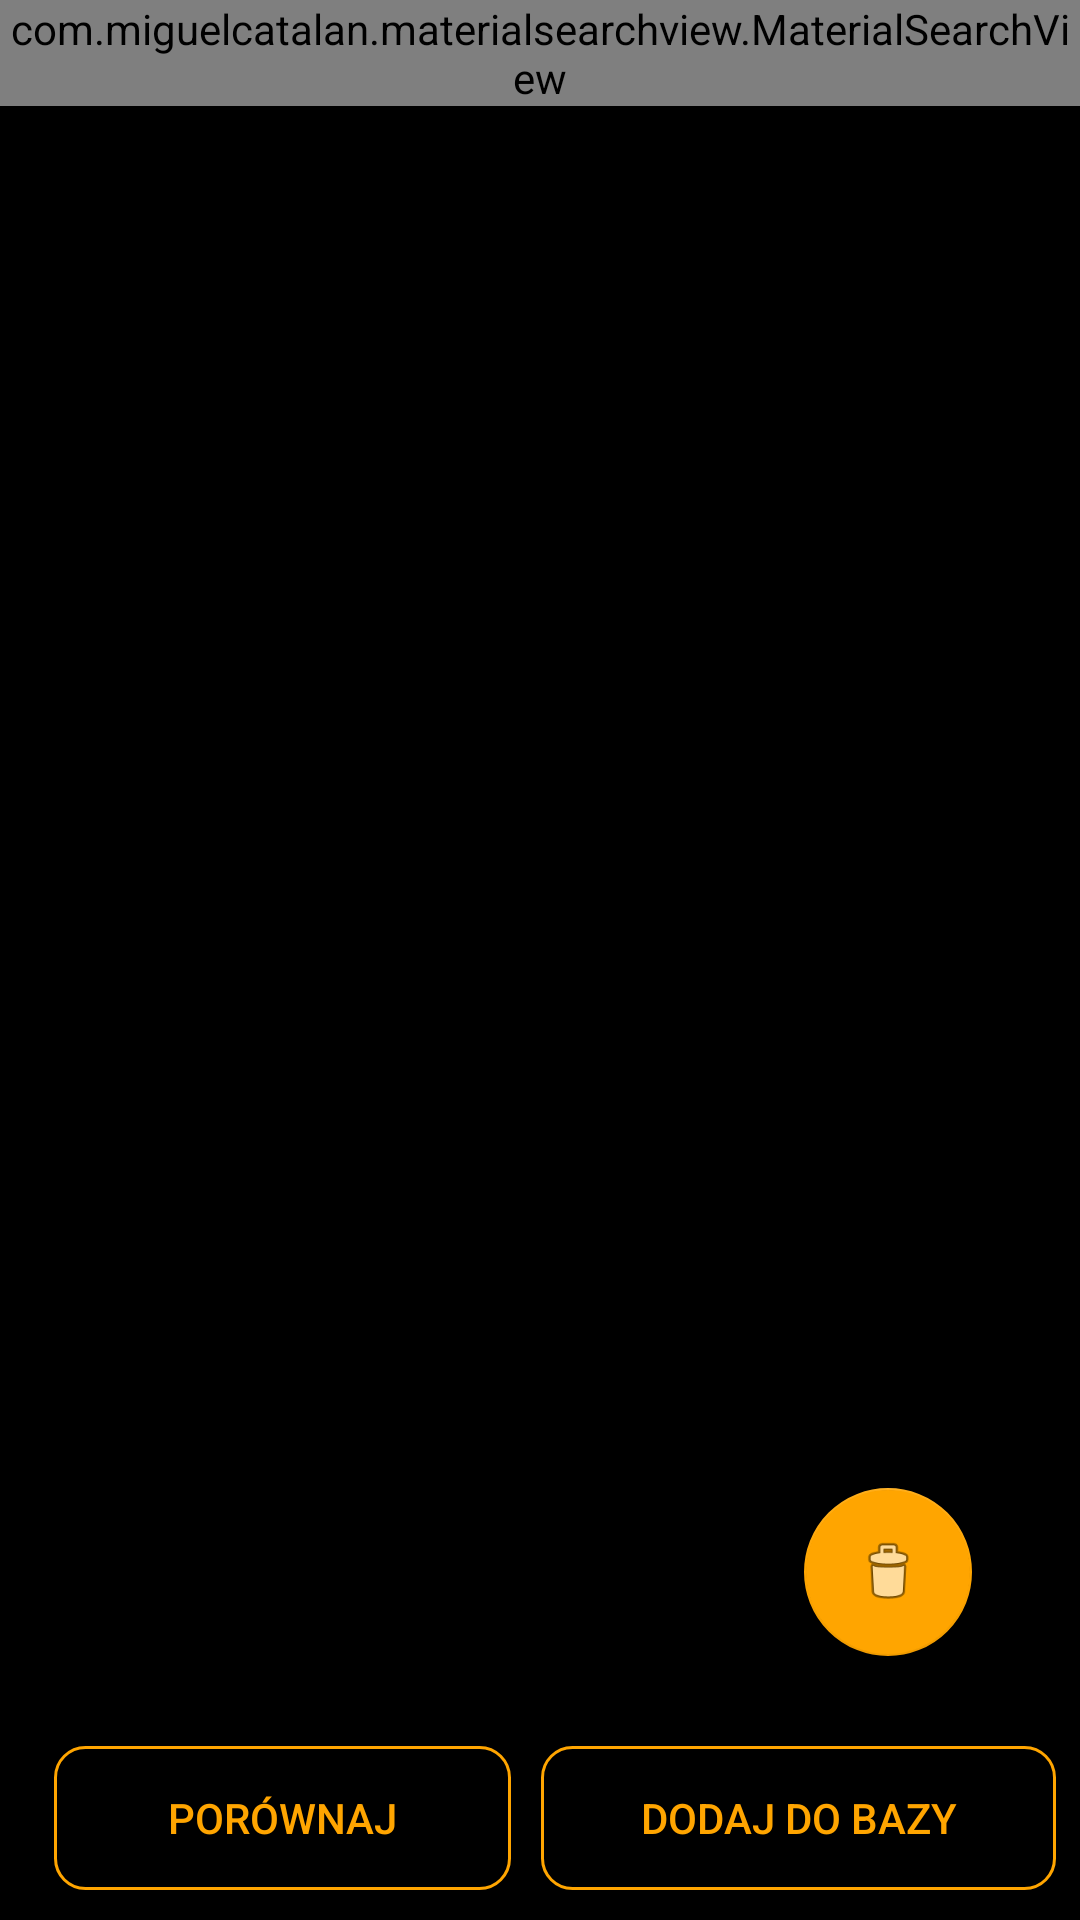

Where to tap for icons on this 1080 x 1920 app screen, as point (x, y):
delete: point (888, 1572)
